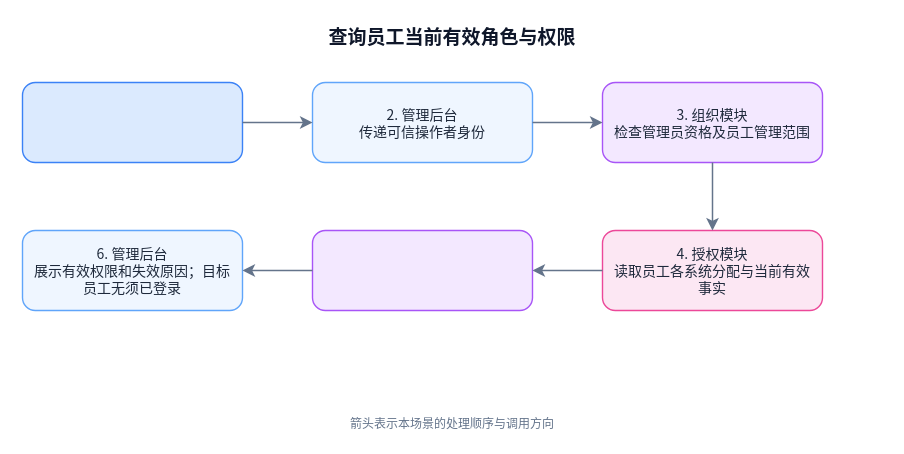
This 904x454 diagram has some shape labels left out. Here are the shapes that lost their labels. From the top down, the centre of each, then its label:
[132,122]: 1. 管理员 选择员工和查看范围
[422,270]: 5. 权限目录与角色 提供角色内容及权限项当前状态
